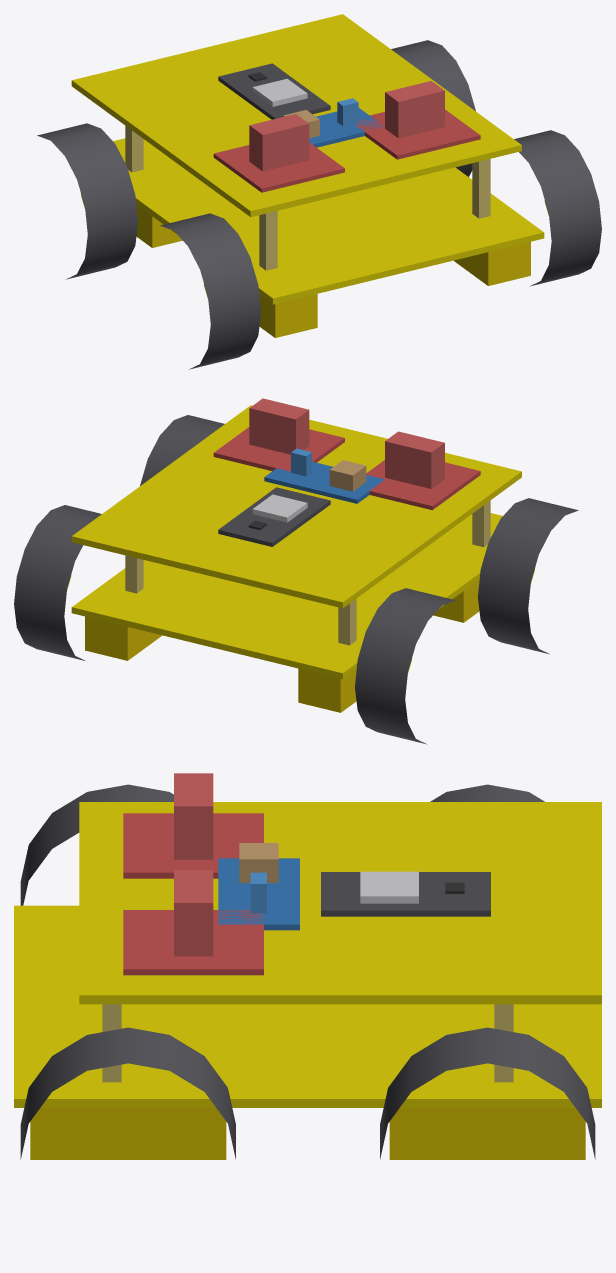
File: robo_racer_car.glb
3 views of the same model, one above another, from view 1: azimuth 30°, elevation 25°; view 2: azimuth 150°, elevation 25°; view 3: azimuth 270°, elevation 25° (orthographic). The views are drawn at different scales.
Visible parts, largest first — view 1: Chassis_Upper, Chassis_Lower, Wheel_RL, Wheel_FL, Wheel_FR, L298N_Left_PCB, L298N_Left_Heatsink, L298N_Right_Heatsink, L298N_Right_PCB, Wheel_RR, ESP32_PCB, Motor_FR (+8 smaller); view 2: Chassis_Upper, Chassis_Lower, Wheel_FL, Wheel_RL, Wheel_RR, L298N_Left_Heatsink, L298N_Right_Heatsink, ESP32_PCB, L298N_Left_PCB, L298N_Right_PCB, Wheel_FR, Motor_RR (+9 smaller); view 3: Chassis_Upper, Chassis_Lower, Motor_FR, Motor_RR, Wheel_FR, Wheel_RR, L298N_Right_PCB, L298N_Left_PCB, ESP32_PCB, XL6019_PCB, L298N_Left_Heatsink, L298N_Right_Heatsink (+7 smaller).
Boxes of the visible parts, left/top/right/bottom form: Chassis_Upper: left=71, top=14, right=521, bottom=217; Chassis_Lower: left=113, top=138, right=544, bottom=304; Wheel_RL: left=37, top=123, right=137, bottom=279; Wheel_FL: left=160, top=213, right=260, bottom=369; Wheel_FR: left=514, top=130, right=601, bottom=286; L298N_Left_PCB: left=213, top=142, right=344, bottom=192; L298N_Left_Heatsink: left=249, top=114, right=309, bottom=171; L298N_Right_Heatsink: left=385, top=81, right=444, bottom=138; L298N_Right_PCB: left=354, top=109, right=480, bottom=159; Wheel_RR: left=391, top=40, right=475, bottom=176; ESP32_PCB: left=218, top=63, right=330, bottom=119; Motor_FR: left=454, top=241, right=530, bottom=285; Chassis_Upper: left=71, top=405, right=521, bottom=608; Chassis_Lower: left=71, top=513, right=502, bottom=679; Wheel_FL: left=478, top=498, right=578, bottom=654; Wheel_RL: left=355, top=588, right=455, bottom=744; Wheel_RR: left=14, top=505, right=101, bottom=660; L298N_Left_Heatsink: left=385, top=431, right=444, bottom=488; L298N_Right_Heatsink: left=249, top=398, right=309, bottom=454; ESP32_PCB: left=218, top=487, right=330, bottom=546; L298N_Left_PCB: left=366, top=460, right=480, bottom=510; L298N_Right_PCB: left=213, top=427, right=344, bottom=471; Wheel_FR: left=140, top=415, right=224, bottom=485; Motor_RR: left=85, top=616, right=162, bottom=660; Chassis_Upper: left=79, top=802, right=601, bottom=1004; Chassis_Lower: left=14, top=905, right=601, bottom=1107; Motor_FR: left=30, top=1108, right=226, bottom=1159; Motor_RR: left=389, top=1108, right=585, bottom=1159; Wheel_FR: left=20, top=1027, right=235, bottom=1159; Wheel_RR: left=380, top=1027, right=595, bottom=1159; L298N_Right_PCB: left=123, top=910, right=263, bottom=975; L298N_Left_PCB: left=123, top=813, right=263, bottom=878; ESP32_PCB: left=321, top=872, right=490, bottom=916; XL6019_PCB: left=218, top=858, right=299, bottom=930; L298N_Left_Heatsink: left=174, top=773, right=213, bottom=859; L298N_Right_Heatsink: left=174, top=870, right=213, bottom=956.
Size of the model in its own units: 0.203 by 0.095 by 0.18.
